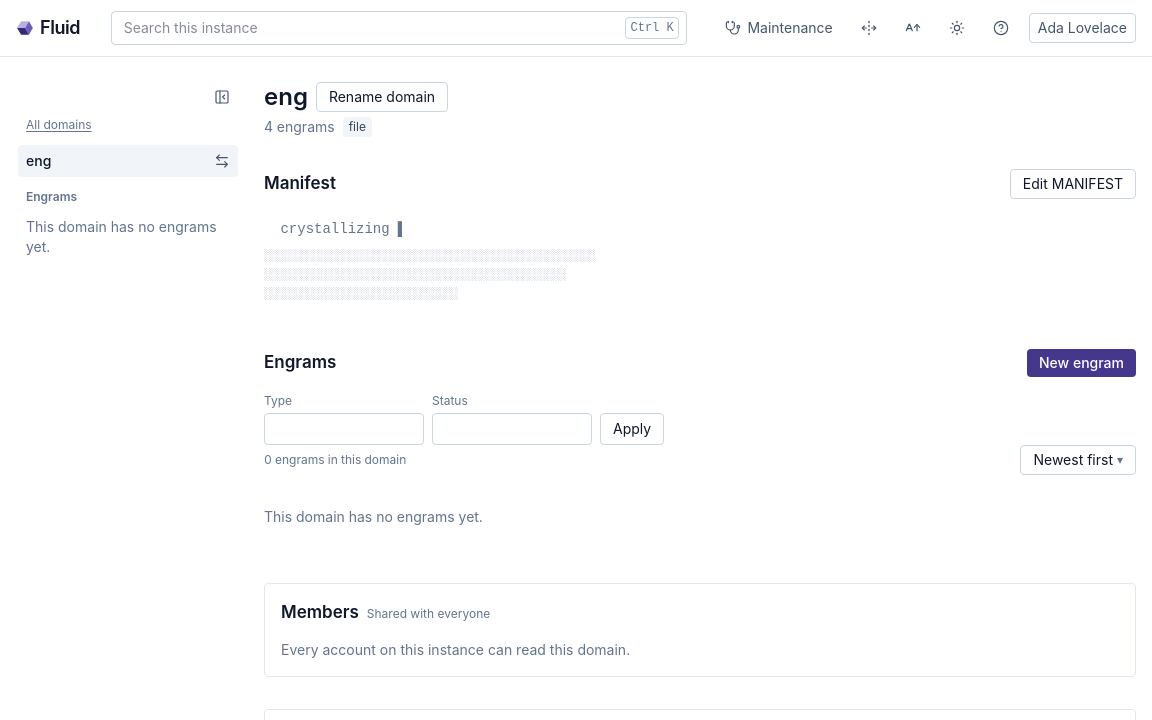
Test: the rename dialog › submits the new name with local_only false when the checkbox is left alone
The width and height of the screenshot is (1152, 720).
Click the button "Rename domain".
click(382, 97)  # box [316, 82, 448, 112]
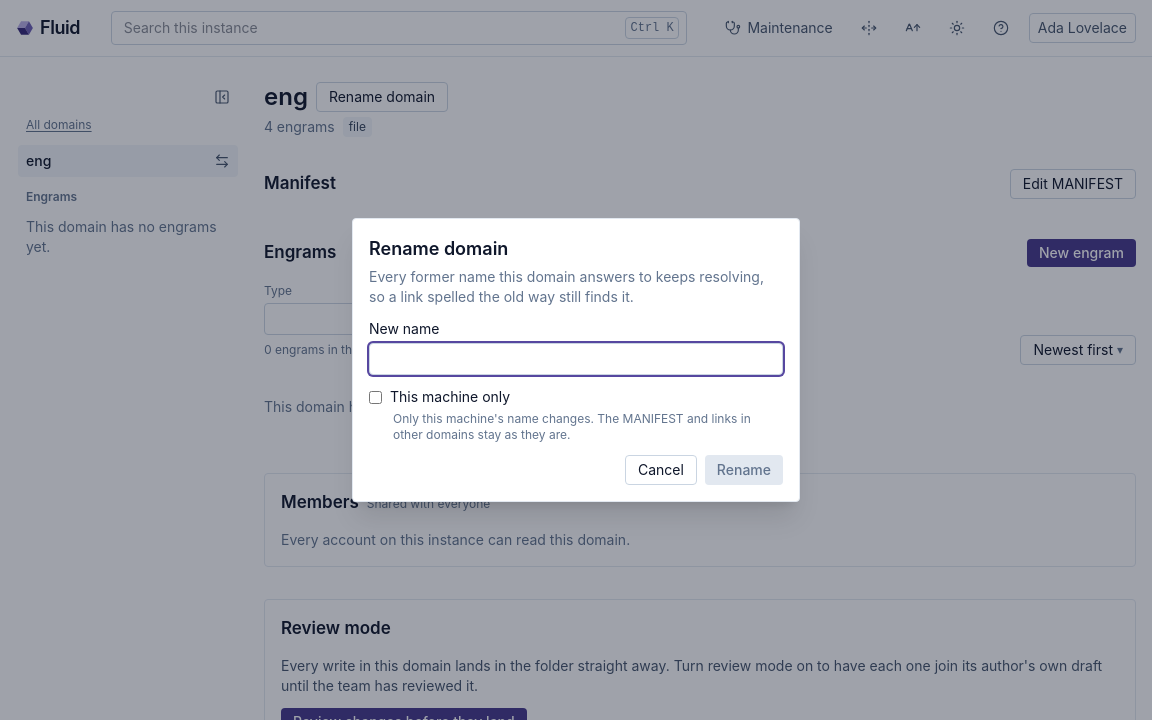
Type "engineering" into the field labelled "New name".
click(576, 359); type("engineering")  # box [369, 343, 783, 375]
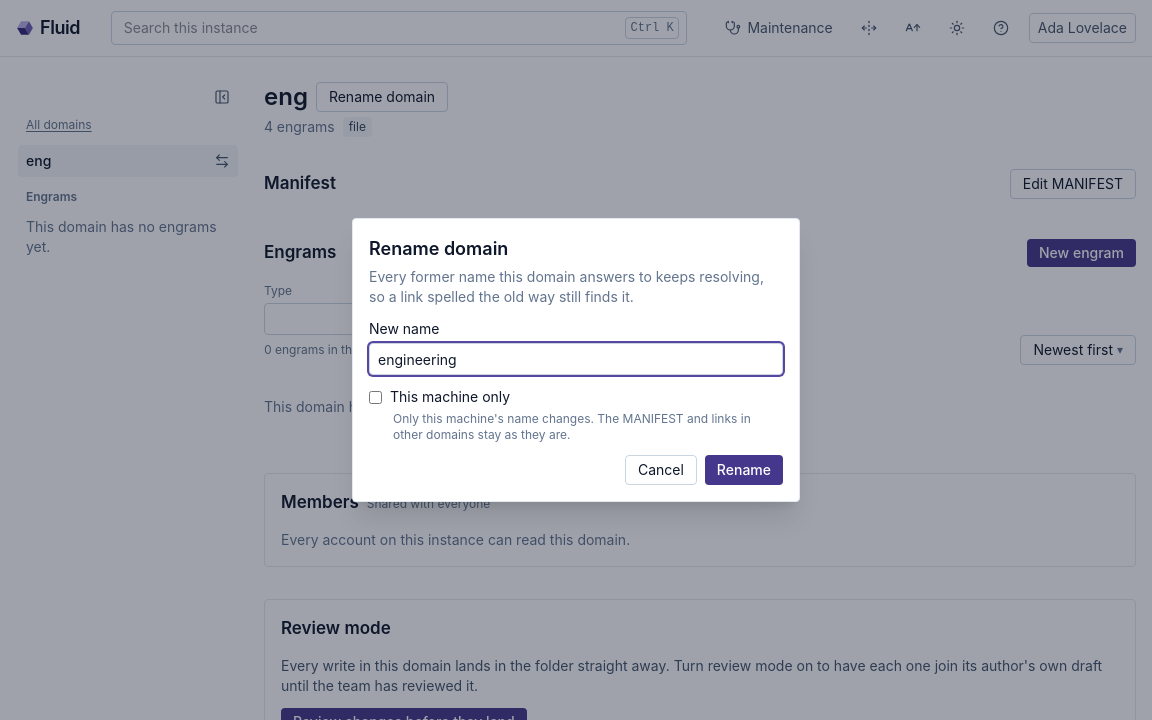
Click the button "Rename".
click(744, 470)  # box [705, 455, 783, 485]
(page scrolled)
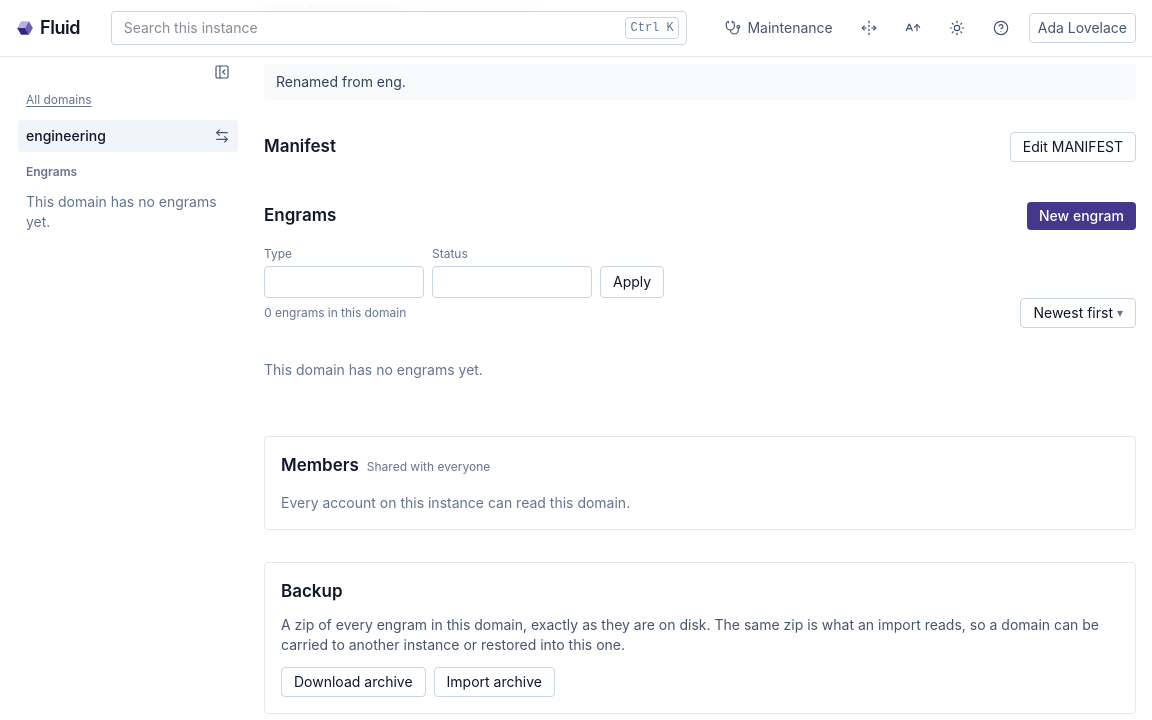
Now the heading "engineering" is shown, box [264, 0, 403, 32]
